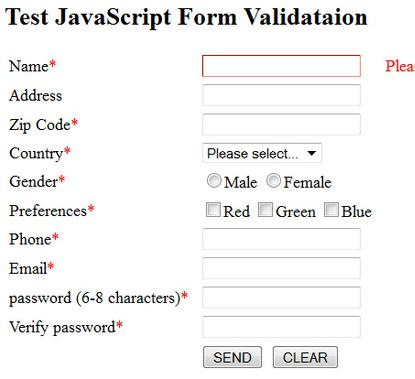button: (271, 345, 337, 369), (202, 345, 262, 369)
checkbox: (322, 198, 339, 219), (257, 200, 275, 218), (205, 200, 222, 218)
checkbox_with_label: (255, 198, 315, 219), (320, 197, 372, 221), (202, 198, 250, 219)
field: (199, 313, 360, 341), (199, 284, 361, 310), (199, 256, 362, 281), (200, 227, 362, 252), (200, 112, 361, 137), (201, 53, 361, 78), (199, 83, 361, 107), (201, 142, 323, 163)
field_with_label: (9, 311, 361, 343), (8, 110, 362, 139), (10, 225, 363, 254), (10, 51, 362, 79), (10, 283, 362, 311), (9, 81, 362, 108), (9, 255, 362, 282), (11, 141, 325, 165)
radio: (265, 170, 282, 190), (206, 171, 222, 190)
radio_with_label: (264, 168, 331, 191), (203, 169, 257, 191)
